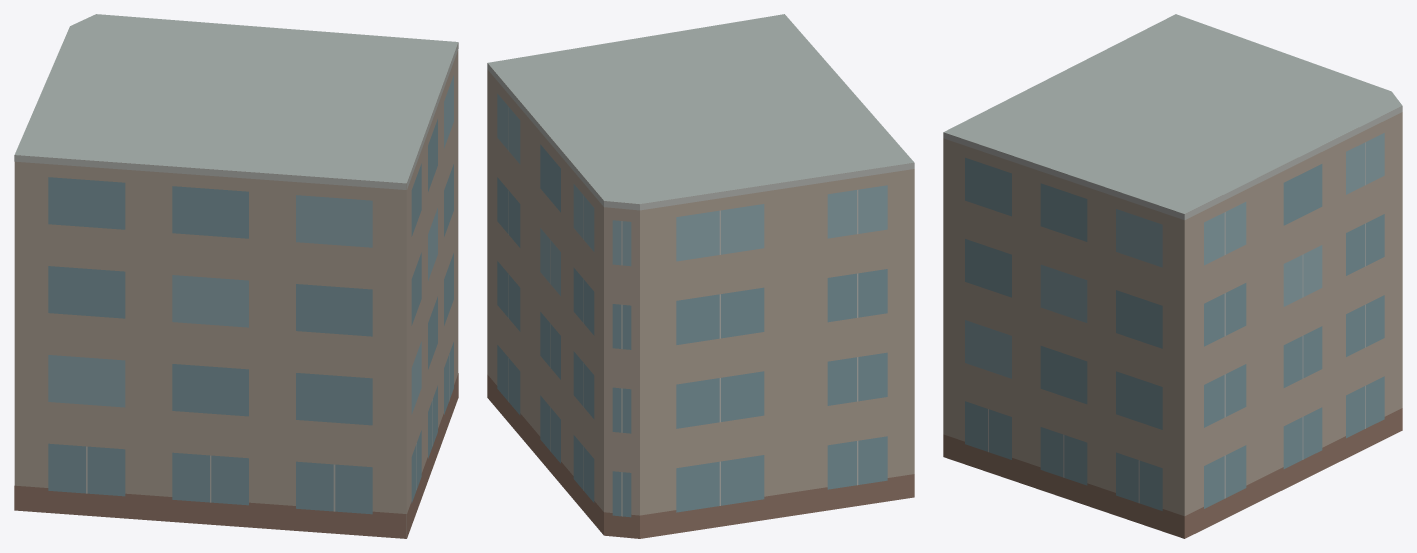
The model's file is survey-upis-32683053.glb.
3 renders of one model, left to right at view 1: azimuth 30°, elevation 25°; view 2: azimuth 150°, elevation 25°; view 3: azimuth 270°, elevation 25°, orthographic. The views are drawn at different scales.
Visible parts, largest first — view 1: survey-upis-32683053.tmp; view 2: survey-upis-32683053.tmp; view 3: survey-upis-32683053.tmp.
Part boxes in pixels (x1,y1,x2,y2): survey-upis-32683053.tmp: (14, 14, 458, 538); survey-upis-32683053.tmp: (487, 14, 914, 538); survey-upis-32683053.tmp: (943, 14, 1402, 538).
Size of the model in its own units: 17.19 by 13 by 16.67.
